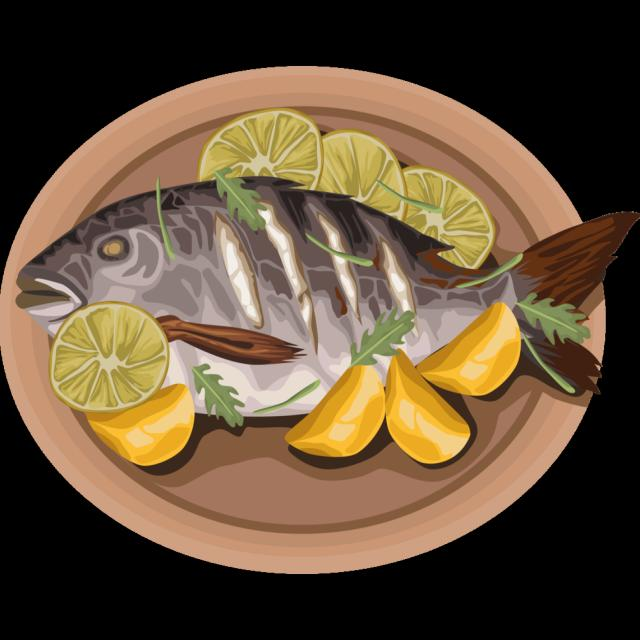pescado: (18, 174, 632, 434)
